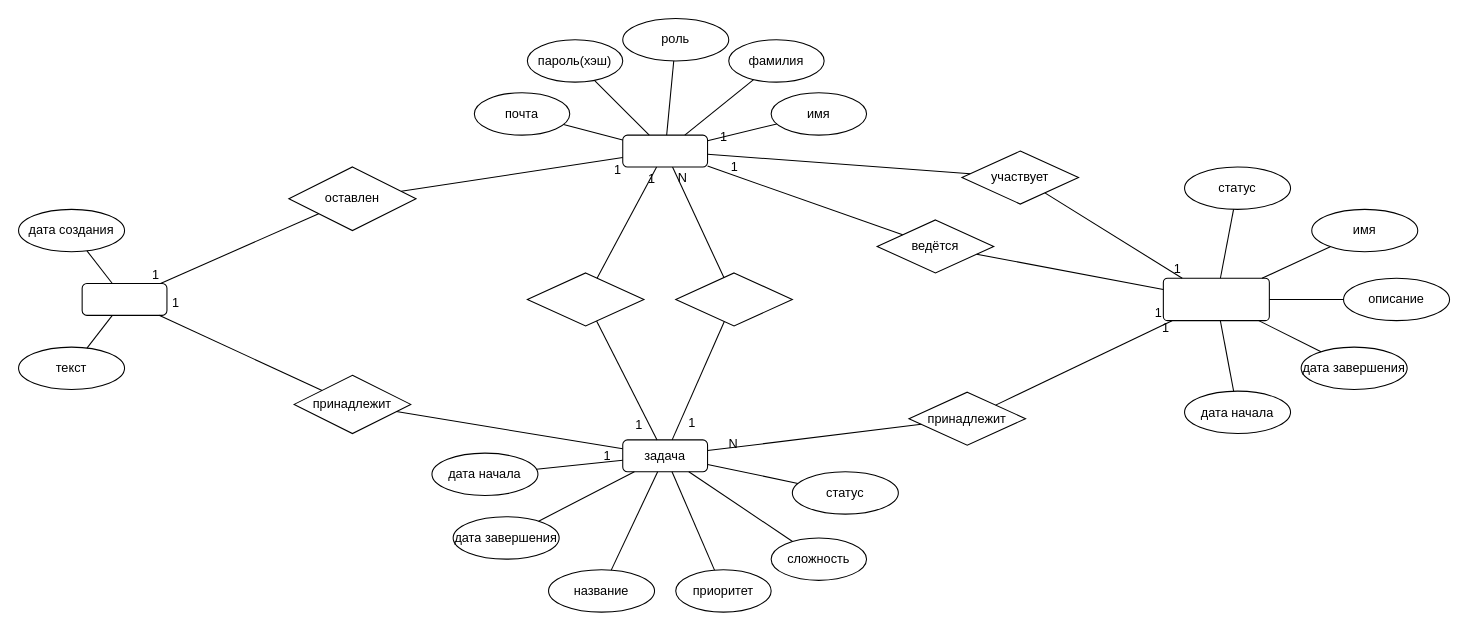
Image size: 1468x631. Some labels were removed from this diagram. The shapes that lost their labels are listed below. From the top down, each one's centre as x and y in pixels, then its label:
the point at 665,150: сотрудник
the point at 124,298: комментарий
the point at 585,299: создана
the point at 733,299: взята
the point at 1215,299: проект
